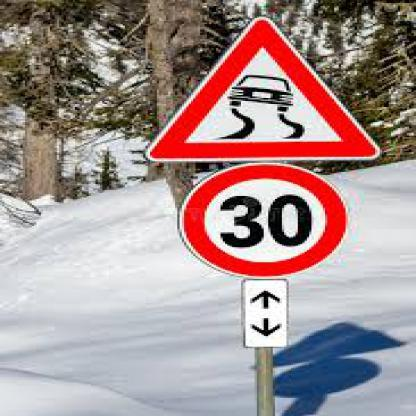Speed Limit 30: (185, 164, 347, 275)
